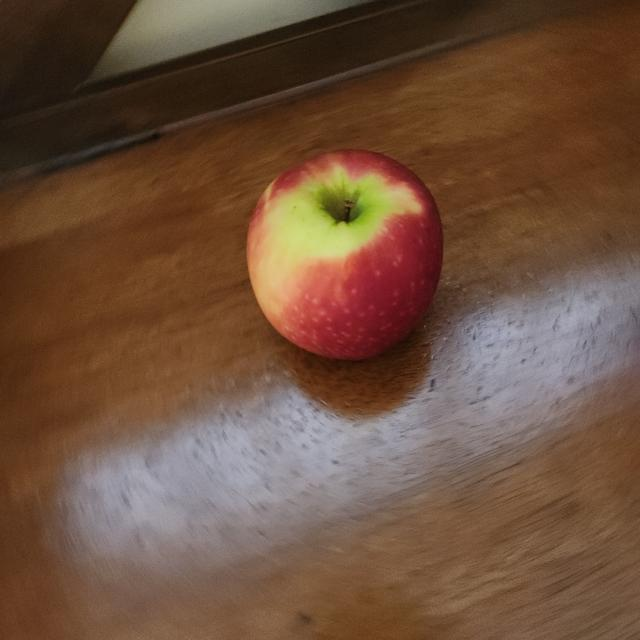apple: (228, 137, 452, 370)
